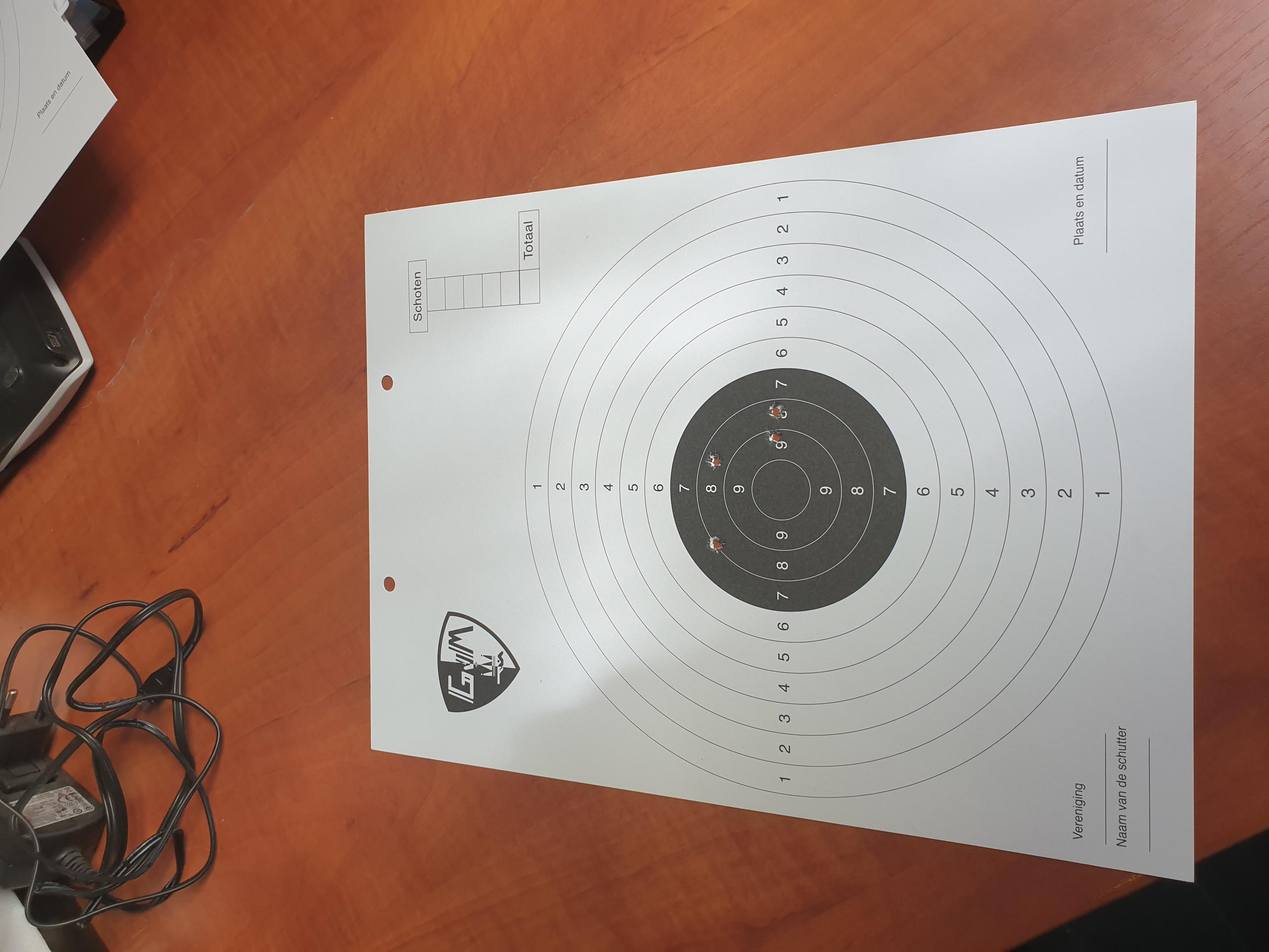hole: (708, 574, 736, 590), (641, 528, 668, 543), (530, 530, 555, 545), (674, 573, 699, 588)
